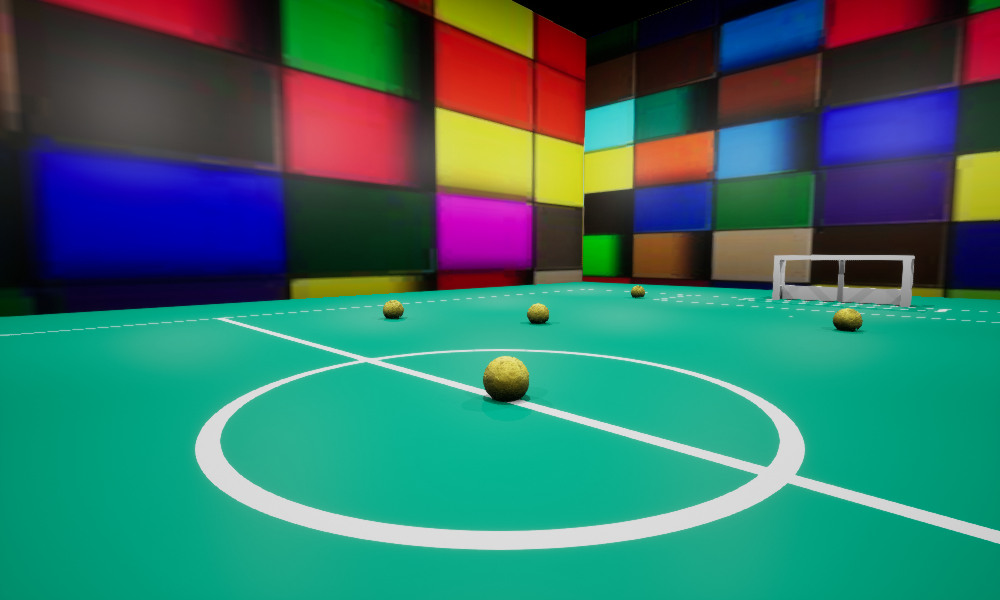b: (483, 356, 528, 400), (833, 308, 862, 330), (527, 303, 548, 323), (383, 300, 403, 318), (631, 285, 644, 297)
g: (772, 255, 914, 306)
